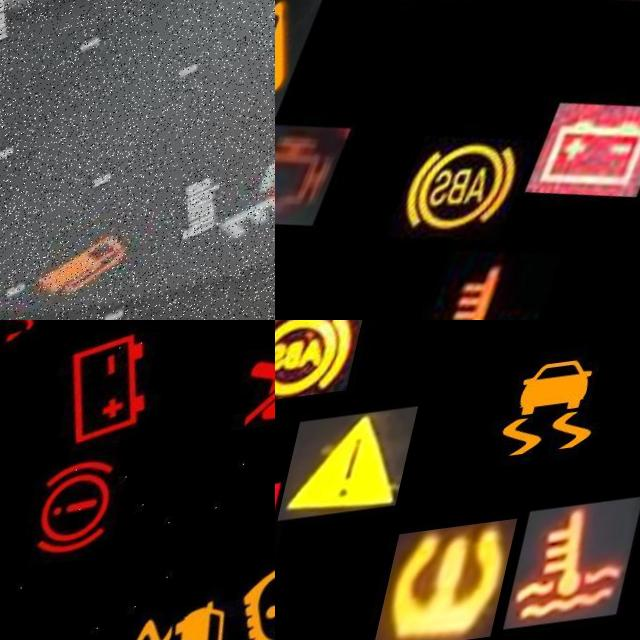Central Warning lamp: (297, 414, 433, 526), (275, 0, 337, 130)
Engine cooling system: (529, 511, 640, 640), (435, 248, 592, 320)
